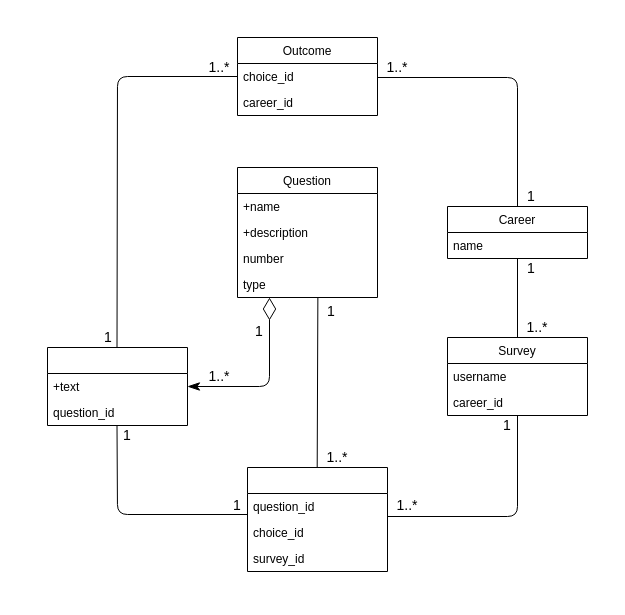
Image size: 625x615. Some labels were removed from this diagram. Each missing label, with the box of its shape:
Choice: (46, 346, 188, 426)
Response: (246, 466, 388, 572)
